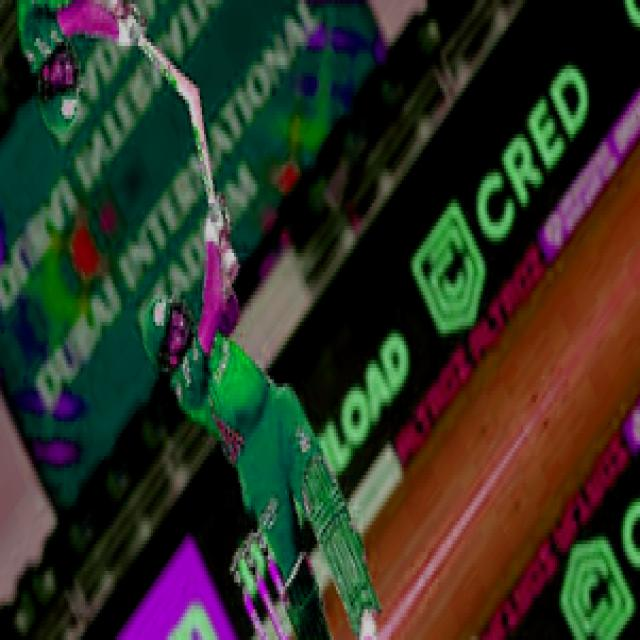toe: (188, 88, 205, 120)
